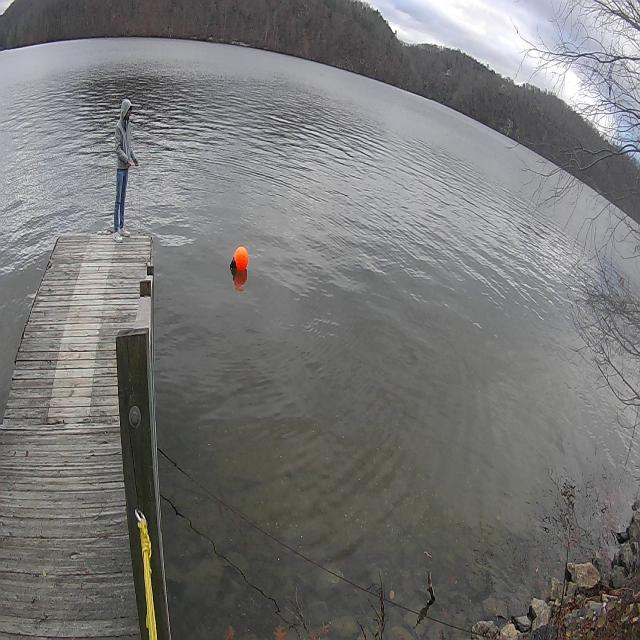Buoy: (234, 245, 248, 275)
